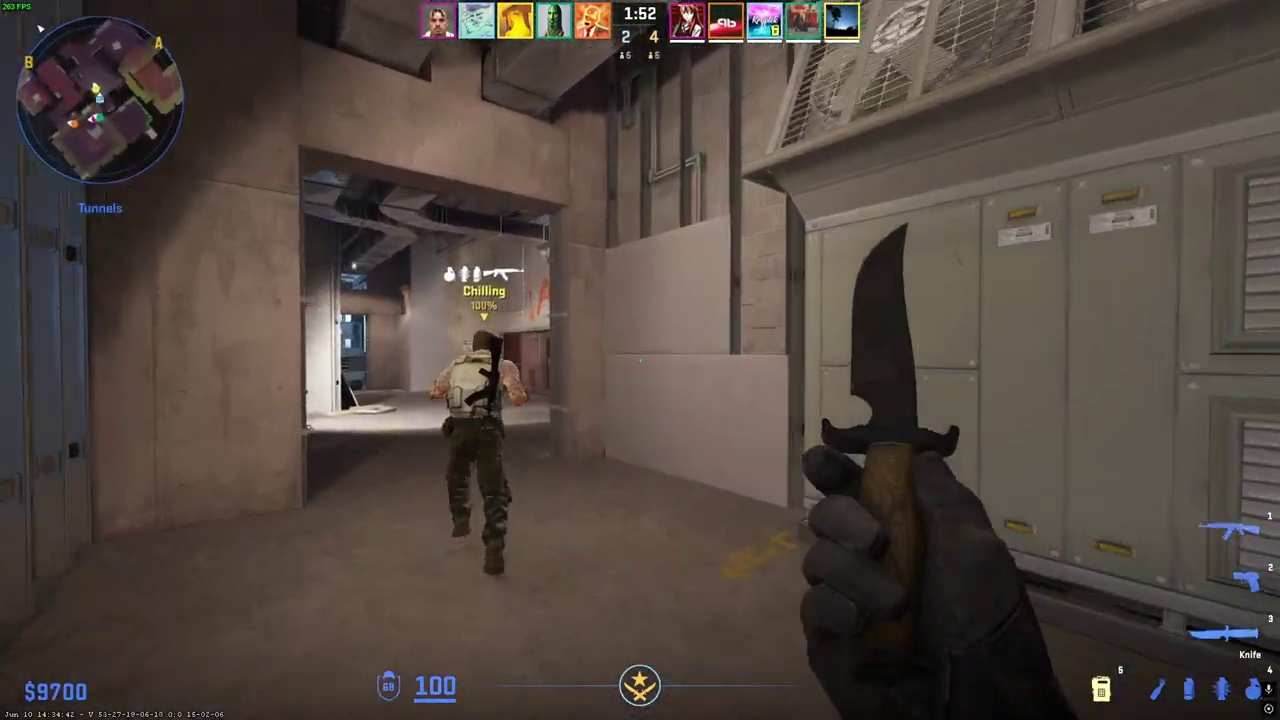Terrorist: (439, 329, 523, 577)
